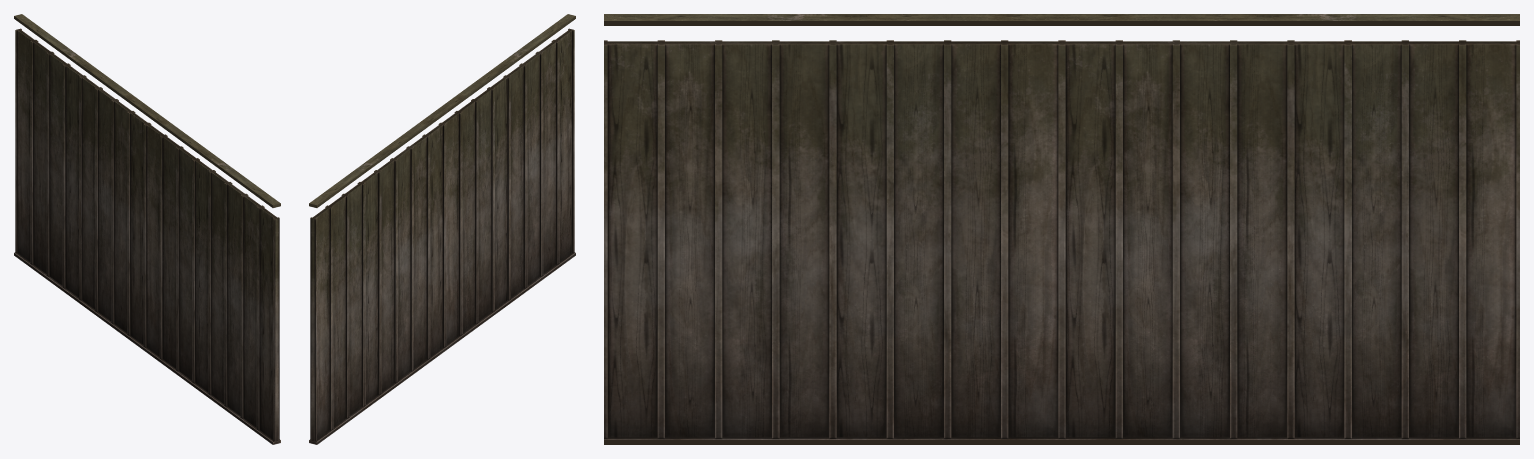
Rendered from JT_Gy_Fence_A_01_x4.fbx.
3 views of the same model, side by side, from view 1: azimuth 30°, elevation 25°; view 2: azimuth 150°, elevation 25°; view 3: azimuth 270°, elevation 25° (orthographic). The views are drawn at different scales.
Visible parts, largest first — view 1: JT_Gy_Fence_A_01_x4, JT_Gy_Fence_A_01_x4_LOD0; view 2: JT_Gy_Fence_A_01_x4, JT_Gy_Fence_A_01_x4_LOD0; view 3: JT_Gy_Fence_A_01_x4, JT_Gy_Fence_A_01_x4_LOD0.
Boxes of the visible parts, left/top/right/bottom form: JT_Gy_Fence_A_01_x4: left=14, top=14, right=280, bottom=444; JT_Gy_Fence_A_01_x4_LOD0: left=14, top=16, right=278, bottom=443; JT_Gy_Fence_A_01_x4: left=309, top=14, right=575, bottom=444; JT_Gy_Fence_A_01_x4_LOD0: left=309, top=14, right=575, bottom=443; JT_Gy_Fence_A_01_x4: left=604, top=14, right=1519, bottom=444; JT_Gy_Fence_A_01_x4_LOD0: left=604, top=14, right=1519, bottom=444.
Size of what is drawn, in the model's own units: 0.0714 by 2.04 by 4.
